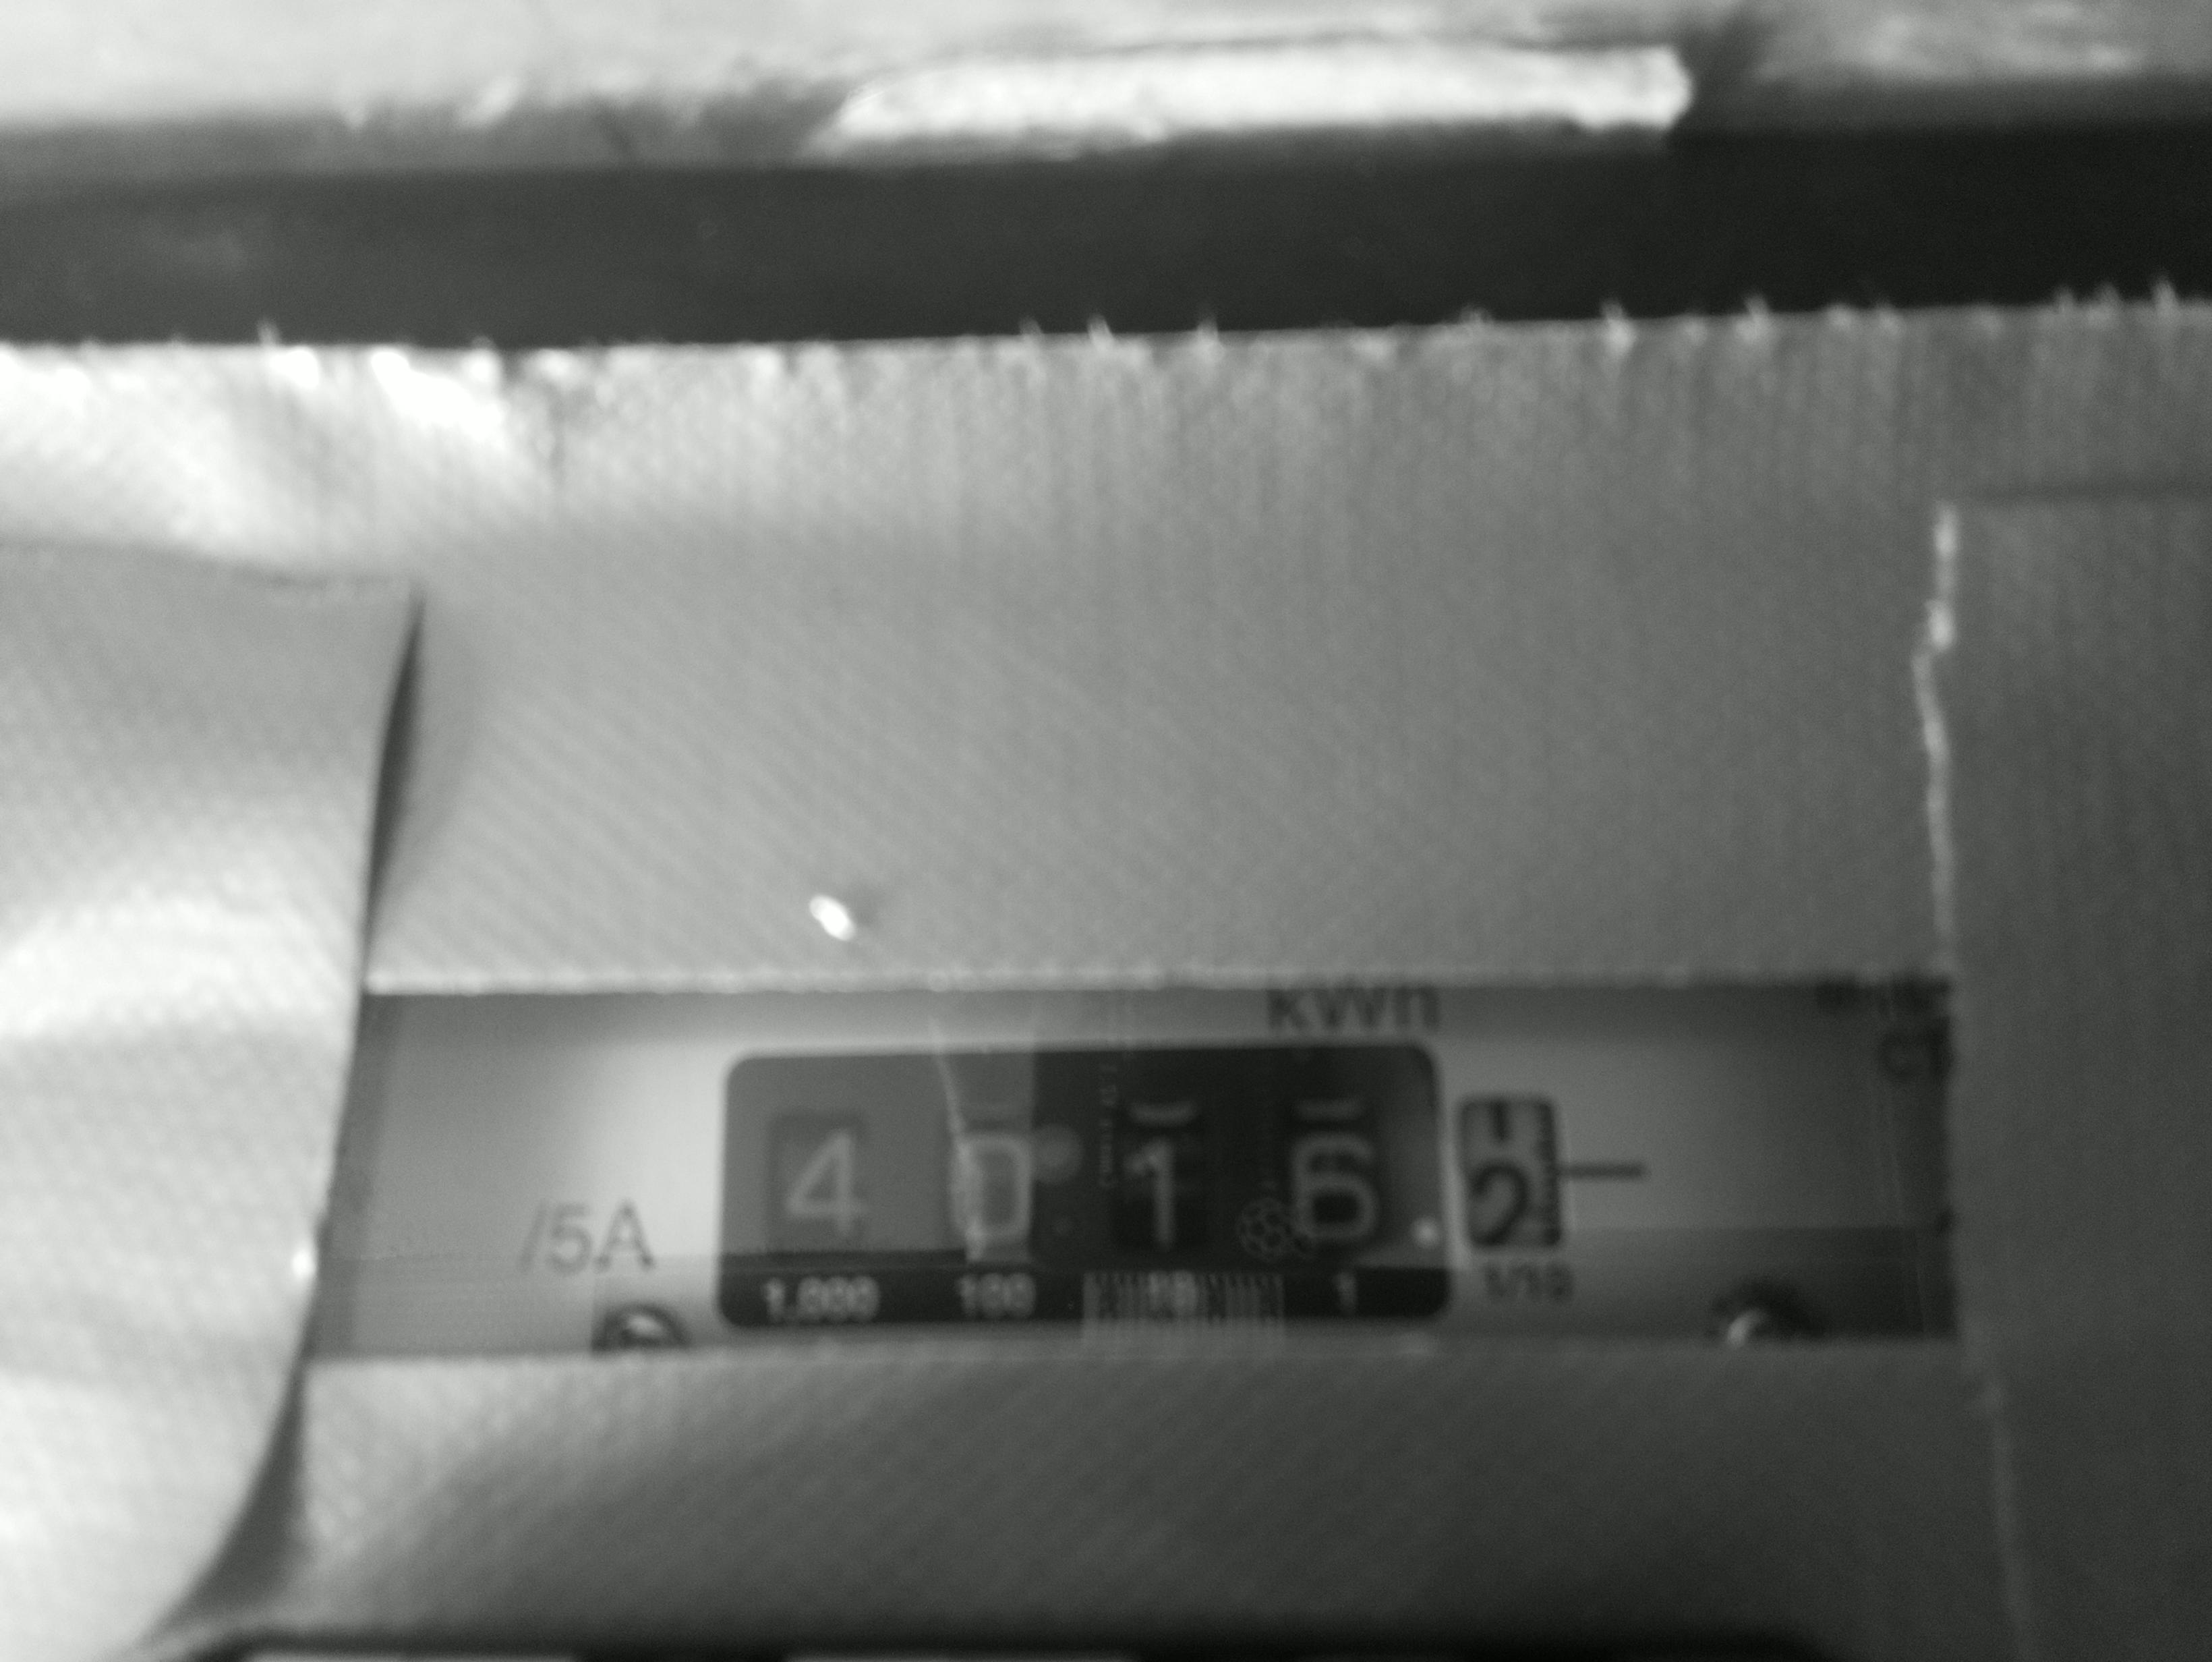meter_box: (693, 1021, 1603, 1358)
